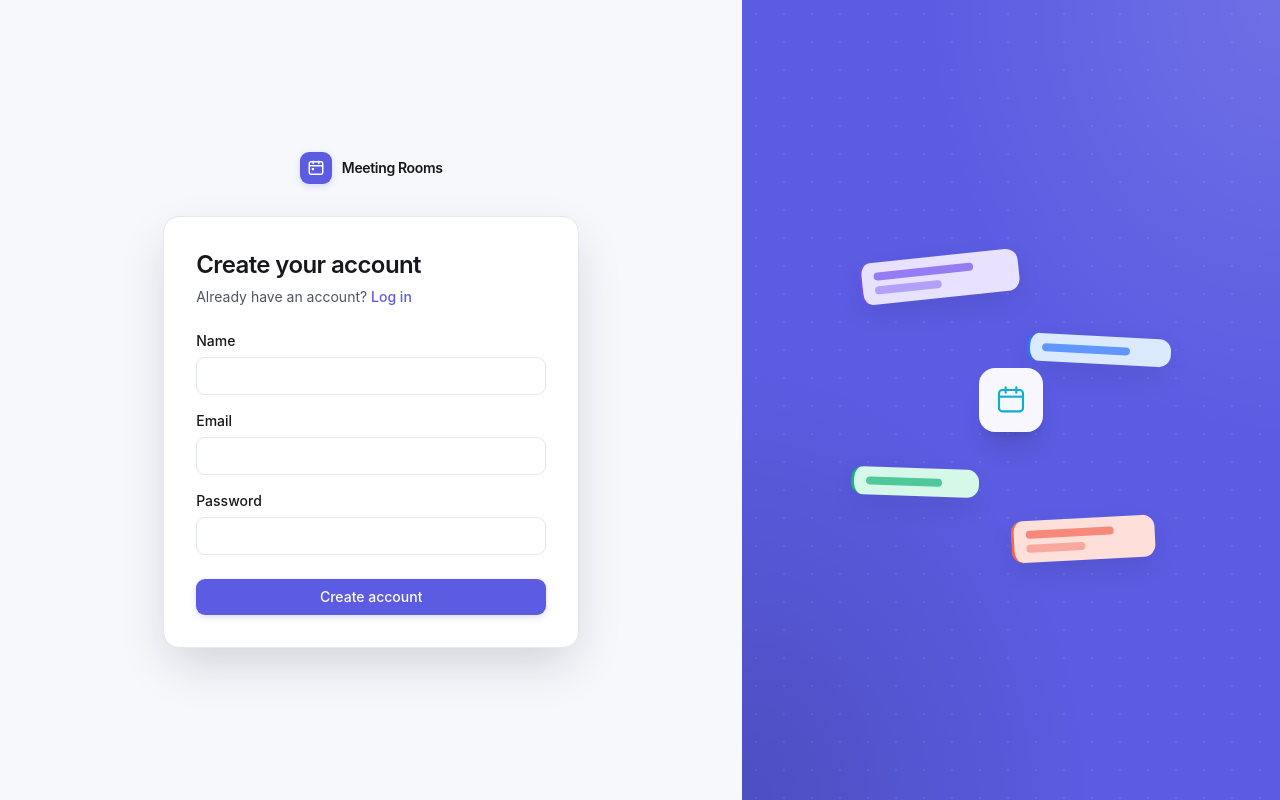
Test case: RegisterPage field validation › shows a server registration failure as a top-level alert, not a field error (F8)
In the field labelled "Name": (371, 376) 196,357 -> 546,395, type "Ada Lovelace"
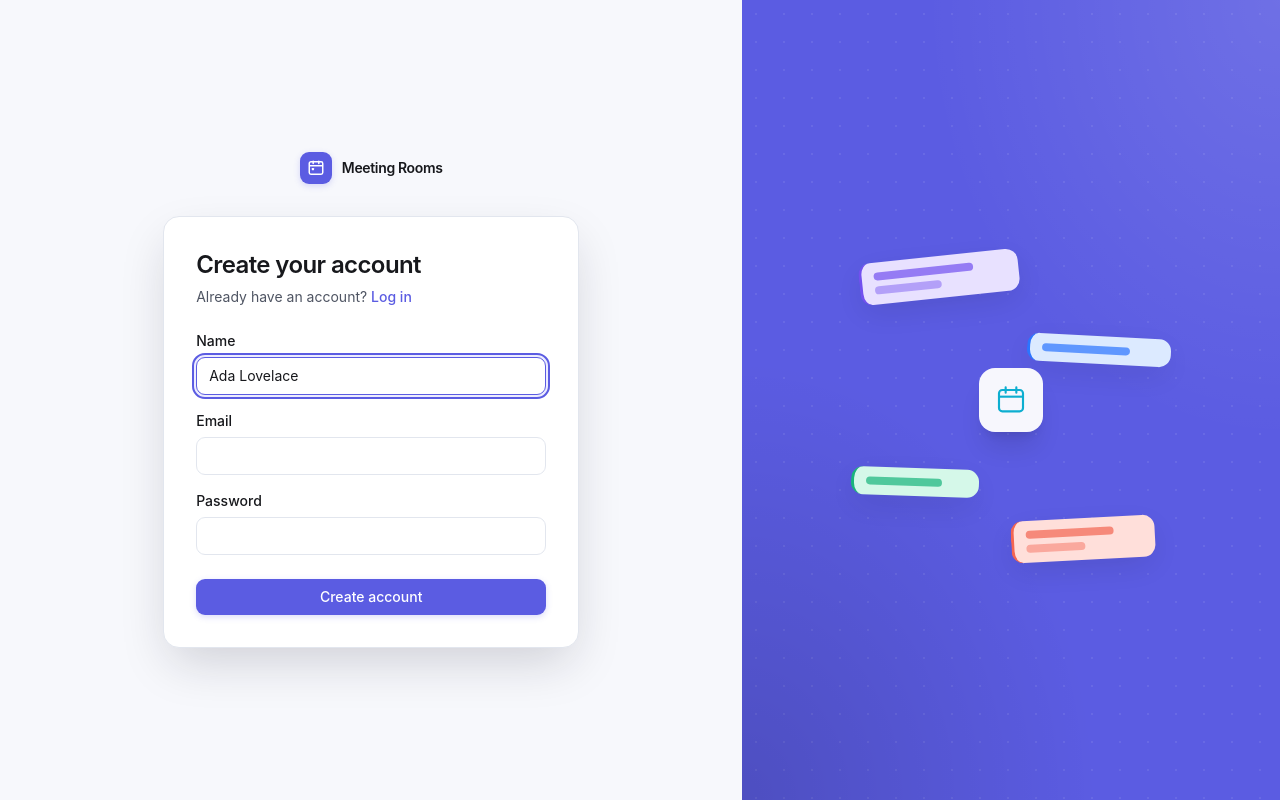
In the field labelled "Email": (371, 456) 196,437 -> 546,475, type "ada@example.com"
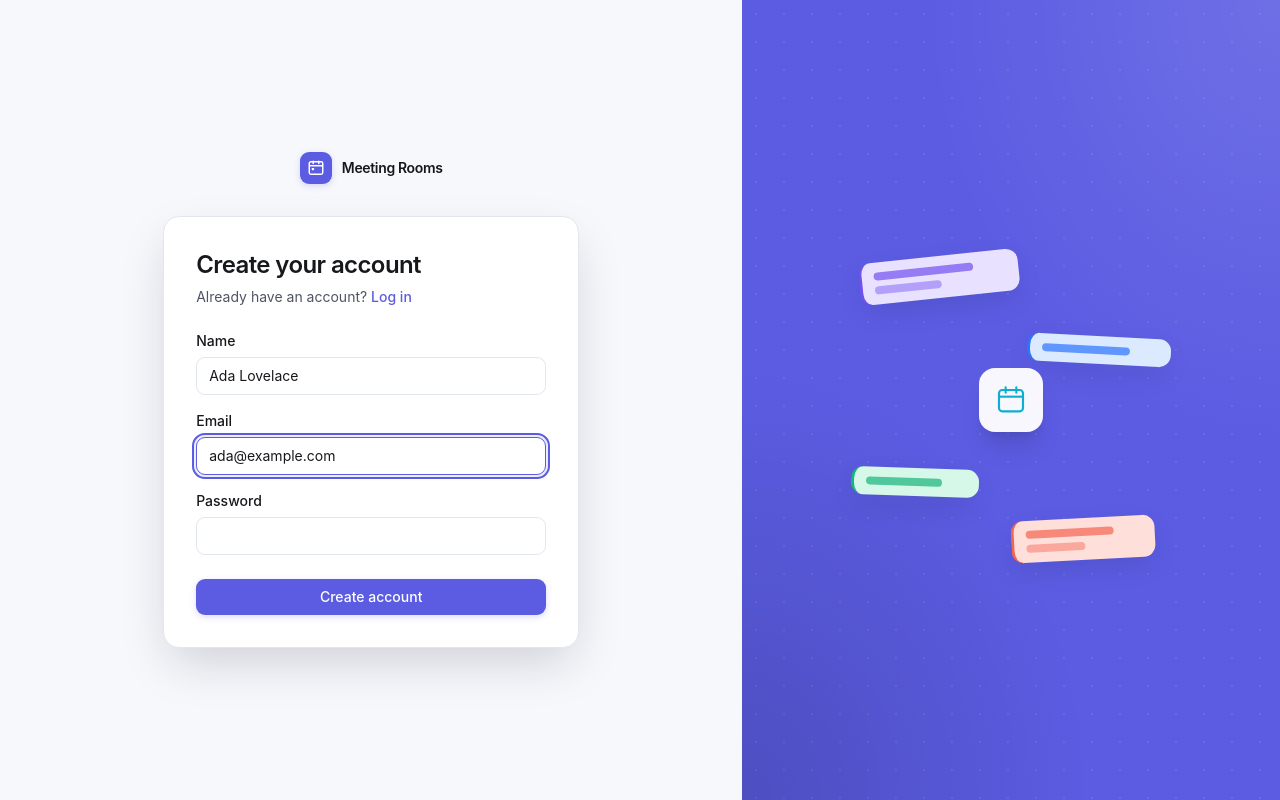
In the password field labelled "Password": (371, 536) 196,517 -> 546,555, type "ValidPassword123"
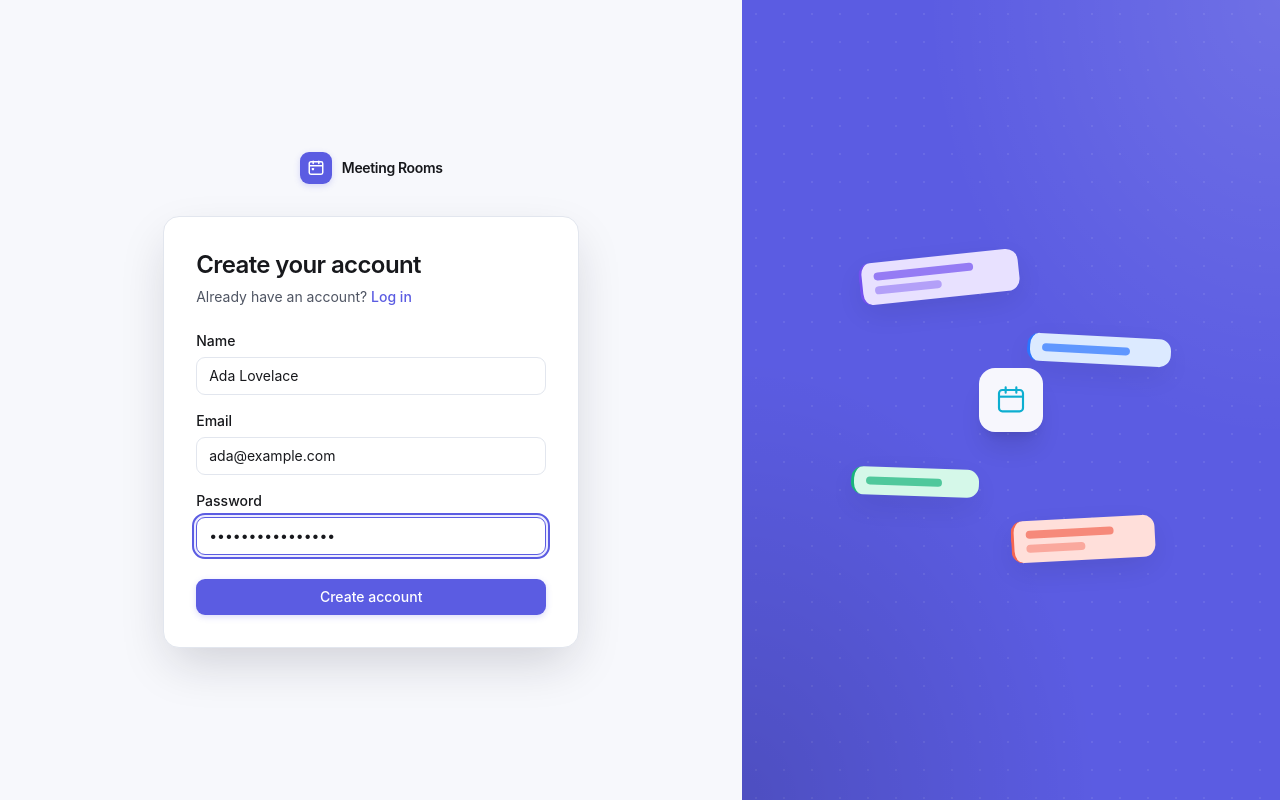
Click the button "Create account": (371, 597) 196,579 -> 546,615
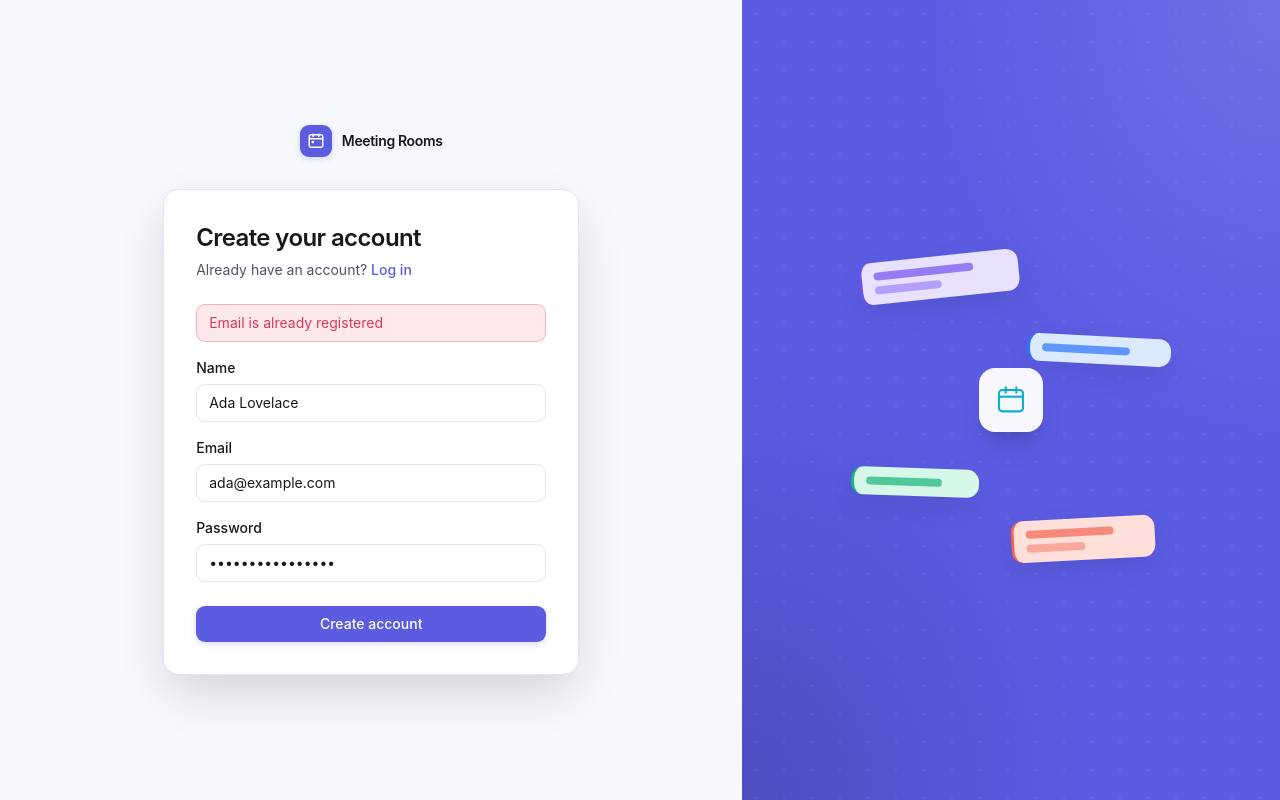
Now the text "Email is already registered" is shown, box 196,304 -> 546,342
